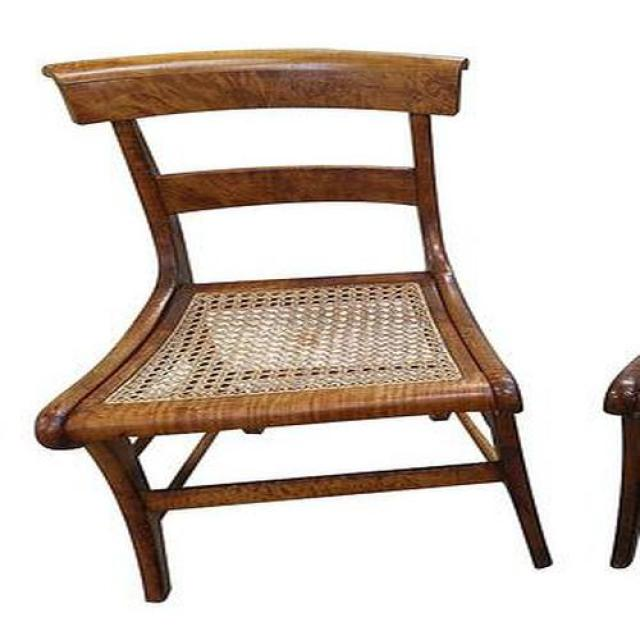chair: (33, 49, 553, 607)
